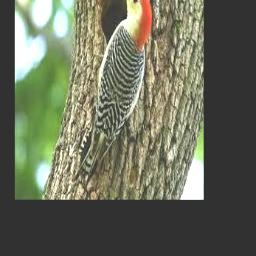Woodpecker: (72, 0, 152, 193)
